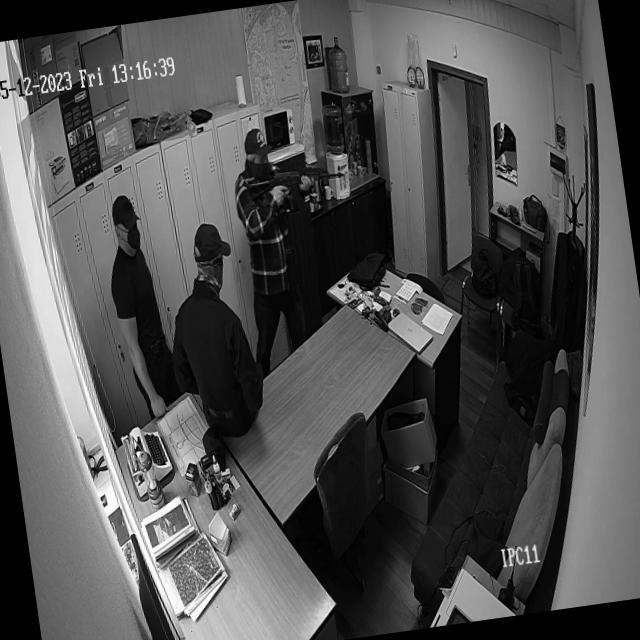gun: (245, 158, 348, 222), (496, 203, 508, 220)
person: (158, 219, 270, 446), (95, 193, 181, 410), (193, 10, 240, 138)
person with a gun: (225, 118, 371, 376)
